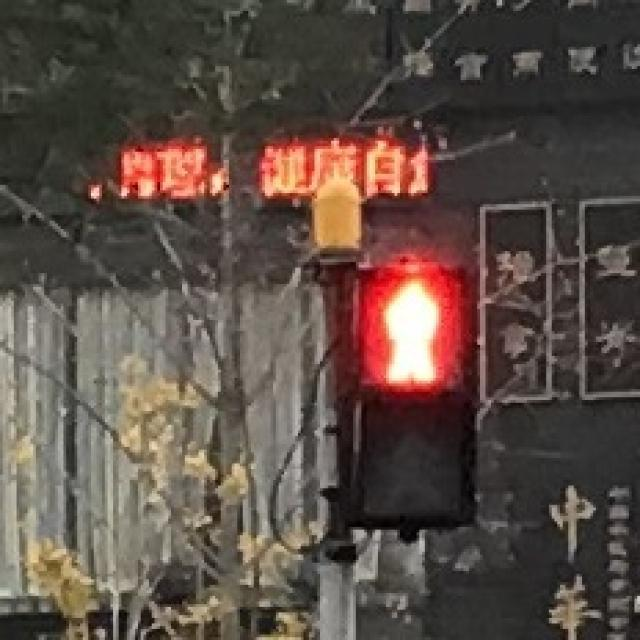red-crossing: (356, 262, 464, 389)
